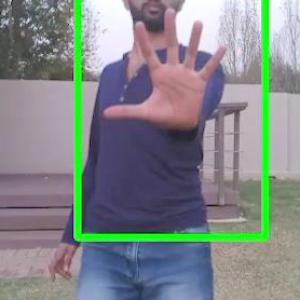follow_hand: (101, 2, 232, 136)
